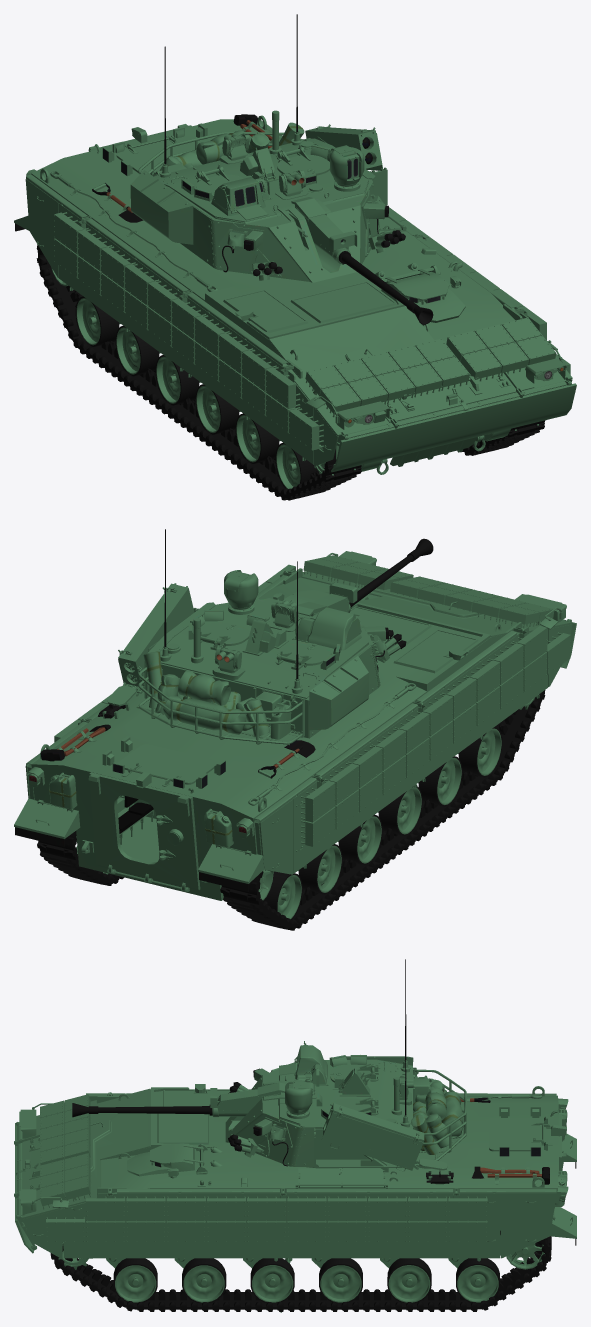
The model's file is k21_armored_warfare.glb.
The picture shows the model from 3 angles, top to bottom: view 1: azimuth 30°, elevation 25°; view 2: azimuth 150°, elevation 25°; view 3: azimuth 270°, elevation 25°; orthographic projection. The views are drawn at different scales.
Visible parts, largest first — view 1: Object_6, Object_22, Object_28, Object_24, Object_9, Object_31, Object_29, Object_4, Object_12, Object_10, Object_20, Object_32 (+6 smaller); view 2: Object_6, Object_22, Object_24, Object_20, Object_9, Object_32, Object_31, Object_28, Object_29, Object_10, Object_12, Object_4 (+7 smaller); view 3: Object_6, Object_22, Object_30, Object_13, Object_29, Object_25, Object_24, Object_28, Object_32, Object_20, Object_4, Object_16 (+3 smaller).
Part boxes in pixels (left/top/right/bottom): Object_6: left=14, top=114, right=576, bottom=474; Object_22: left=130, top=110, right=392, bottom=282; Object_28: left=333, top=317, right=570, bottom=405; Object_24: left=51, top=267, right=538, bottom=489; Object_9: left=36, top=245, right=361, bottom=500; Object_31: left=195, top=315, right=300, bottom=433; Object_29: left=148, top=254, right=546, bottom=417; Object_4: left=227, top=283, right=393, bottom=330; Object_12: left=101, top=246, right=159, bottom=330; Object_10: left=54, top=212, right=112, bottom=295; Object_20: left=71, top=120, right=304, bottom=277; Object_32: left=138, top=124, right=382, bottom=173; Object_6: left=14, top=551, right=576, bottom=900; Object_22: left=144, top=570, right=400, bottom=738; Object_24: left=259, top=697, right=534, bottom=919; Object_20: left=49, top=651, right=394, bottom=847; Object_9: left=220, top=690, right=545, bottom=930; Object_32: left=107, top=583, right=304, bottom=745; Object_31: left=442, top=626, right=547, bottom=743; Object_28: left=303, top=555, right=526, bottom=621; Object_29: left=258, top=564, right=554, bottom=777; Object_10: left=301, top=763, right=359, bottom=846; Object_12: left=348, top=728, right=406, bottom=812; Object_4: left=349, top=607, right=474, bottom=669; Object_6: left=14, top=1084, right=576, bottom=1261; Object_22: left=225, top=1041, right=429, bottom=1172; Object_30: left=247, top=1196, right=487, bottom=1242; Object_13: left=50, top=1230, right=551, bottom=1311; Object_29: left=40, top=1094, right=245, bottom=1242; Object_25: left=319, top=1243, right=544, bottom=1303; Object_24: left=58, top=1242, right=294, bottom=1303; Object_28: left=40, top=1105, right=91, bottom=1242; Object_32: left=321, top=1067, right=466, bottom=1171; Object_20: left=411, top=1075, right=567, bottom=1206; Object_4: left=159, top=1091, right=230, bottom=1141; Object_16: left=209, top=1082, right=285, bottom=1117.
Size of the model in its own units: 3.47 by 4.64 by 7.63.
27 materials, 27 textured.
